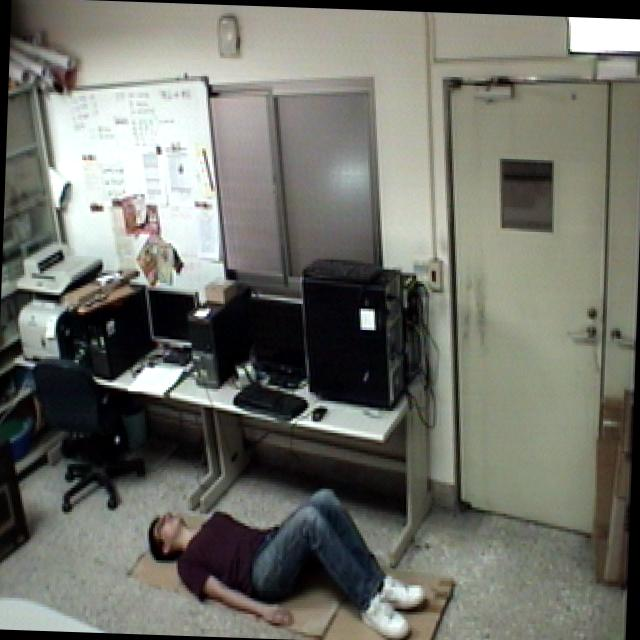lie: (137, 481, 430, 640)
